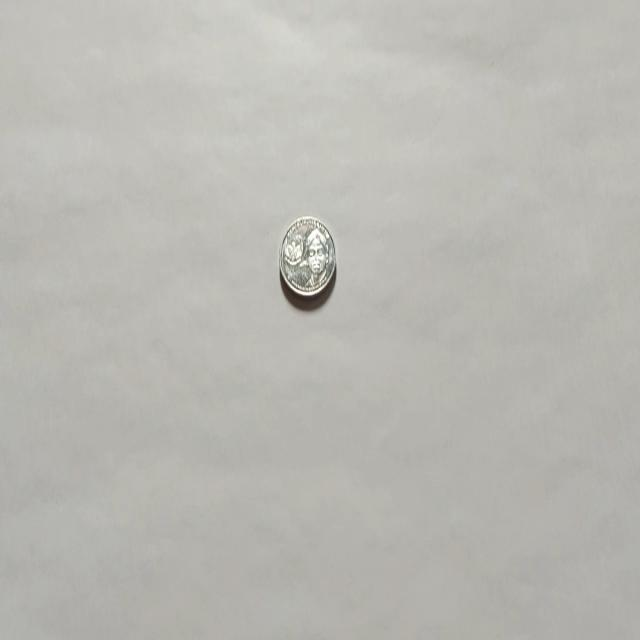dua ratus rupiah: (278, 214, 336, 300)
